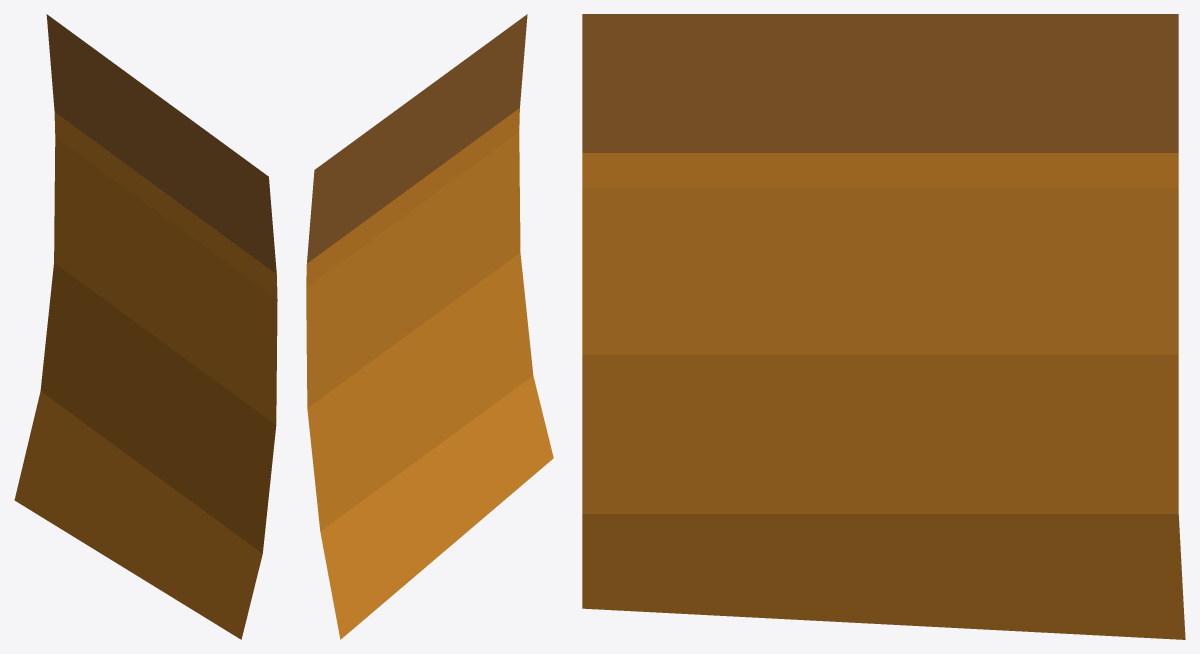
File: Notepad.fbx
The picture shows the model from 3 angles, left to right: view 1: azimuth 30°, elevation 25°; view 2: azimuth 150°, elevation 25°; view 3: azimuth 270°, elevation 25°; orthographic projection. The views are drawn at different scales.
Parts seen in each view (by area): view 1: Plane; view 2: Plane; view 3: Plane.
Boxes of the visible parts, <box> form: Plane: <box>14,14,277,639</box>; Plane: <box>306,14,553,639</box>; Plane: <box>582,14,1185,639</box>.
Bounding box in the file's own units: 15.98 × 192 × 163.
